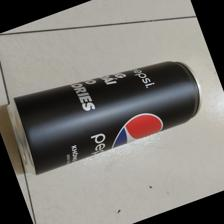Pepsi: (4, 61, 202, 179)
